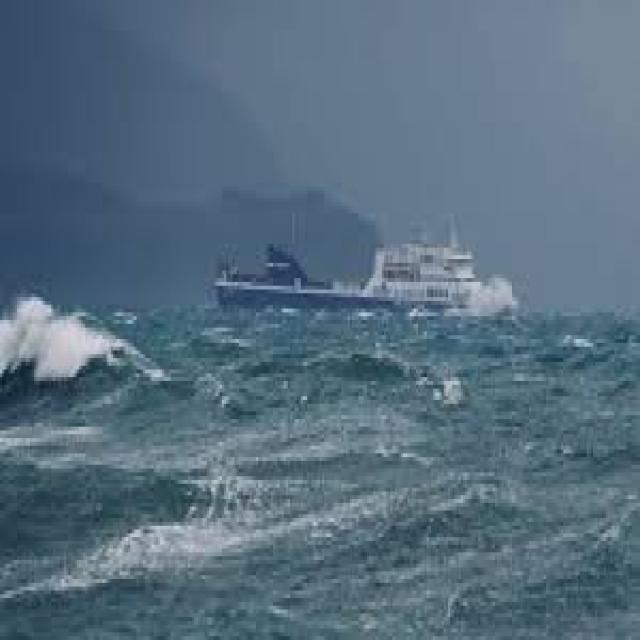fishing boat: (206, 219, 482, 315)
